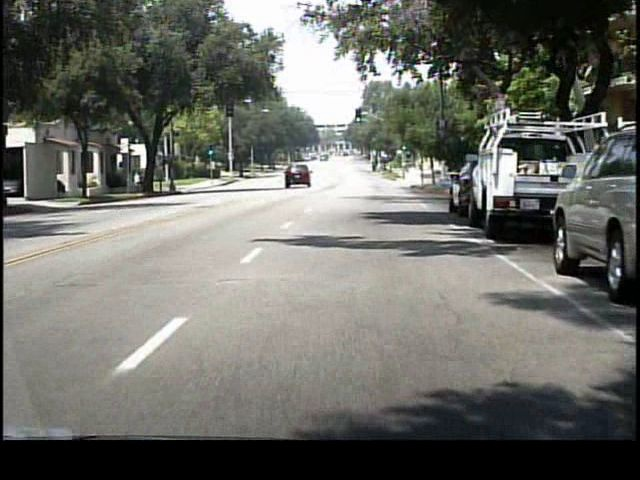person: (136, 169, 144, 195)
